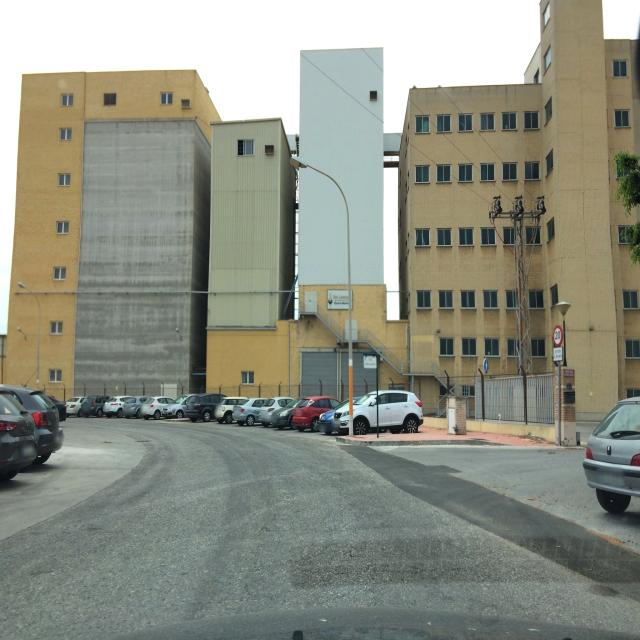car: (582, 394, 640, 522), (0, 385, 61, 464), (336, 389, 424, 436), (0, 388, 36, 486), (291, 397, 341, 431), (316, 397, 360, 435), (185, 394, 225, 421), (29, 392, 66, 421), (232, 398, 269, 426), (260, 397, 295, 426), (214, 397, 247, 423), (140, 396, 174, 418), (102, 396, 130, 417), (122, 396, 148, 417), (65, 396, 89, 416), (90, 396, 111, 416)
